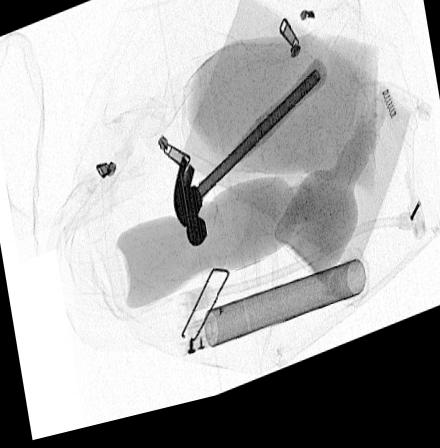Hammer: (171, 72, 327, 256)
